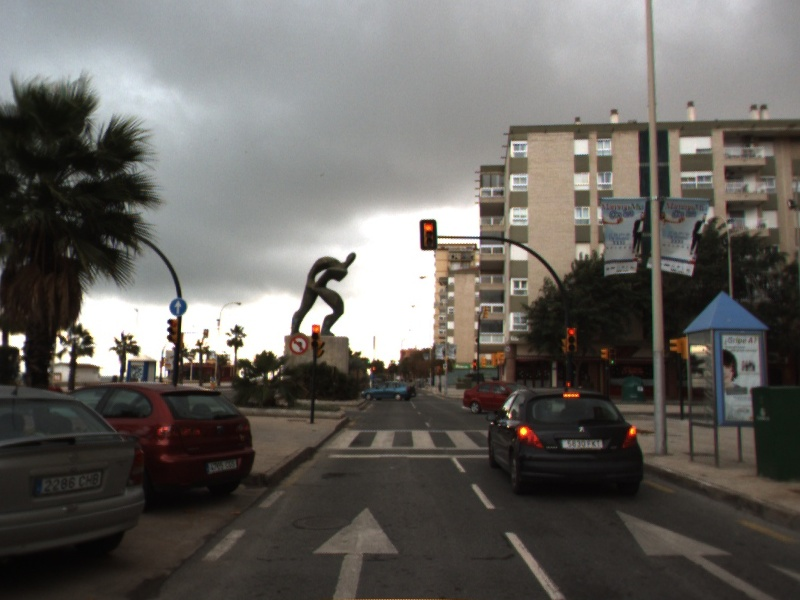STRAIGHT: (615, 509, 779, 600), (310, 506, 401, 600)
